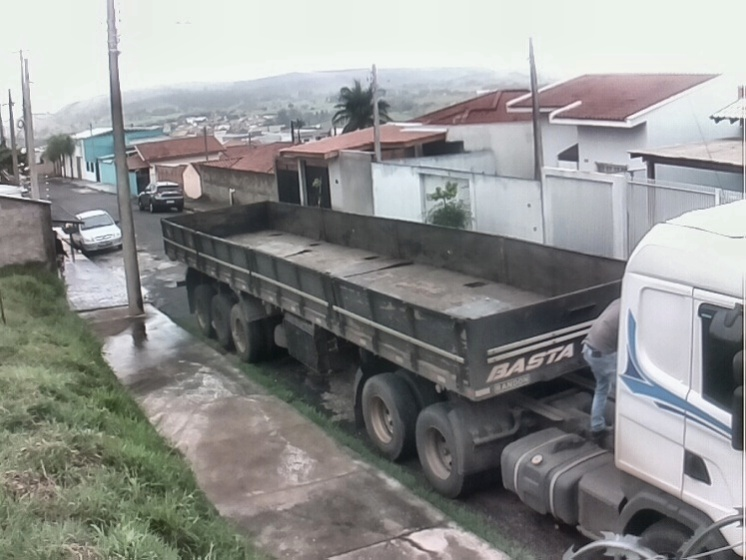person: (578, 294, 622, 435), (51, 230, 71, 280)
